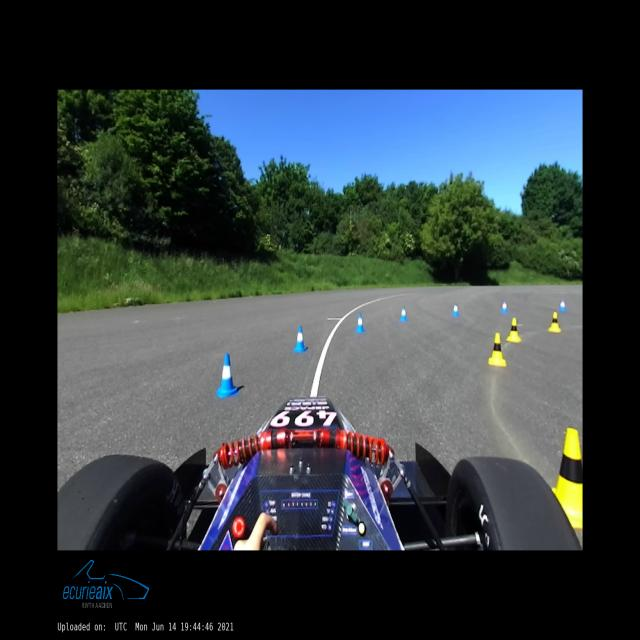blue_cone: (216, 353, 239, 398), (292, 327, 307, 352), (355, 314, 365, 332), (400, 307, 408, 321), (452, 303, 460, 316), (559, 300, 566, 312), (501, 301, 508, 313)
yellow_cone: (552, 427, 582, 530), (489, 333, 506, 367), (506, 317, 522, 343), (548, 312, 561, 332)
